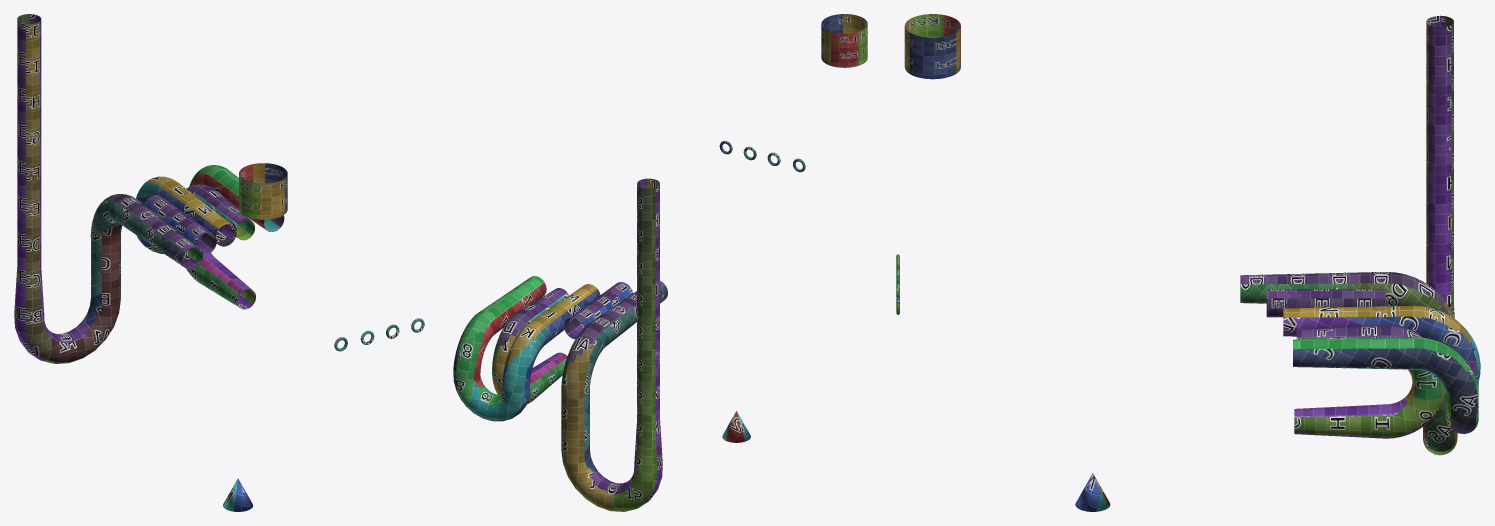
The model's file is Stairs_to_hell_pipes.fbx.
The picture shows the model from 3 angles, left to right: view 1: azimuth 30°, elevation 25°; view 2: azimuth 150°, elevation 25°; view 3: azimuth 270°, elevation 25°; orthographic projection. The views are drawn at different scales.
Parts seen in each view (by area): view 1: Stairs_to_hell_pipes; view 2: Stairs_to_hell_pipes; view 3: Stairs_to_hell_pipes.
Part boxes in pixels (left/top/right/bottom): Stairs_to_hell_pipes: left=14, top=14, right=424, bottom=511; Stairs_to_hell_pipes: left=453, top=14, right=867, bottom=511; Stairs_to_hell_pipes: left=896, top=14, right=1480, bottom=511.
Bounding box in the file's own units: 15.67 × 28.58 × 33.34.
